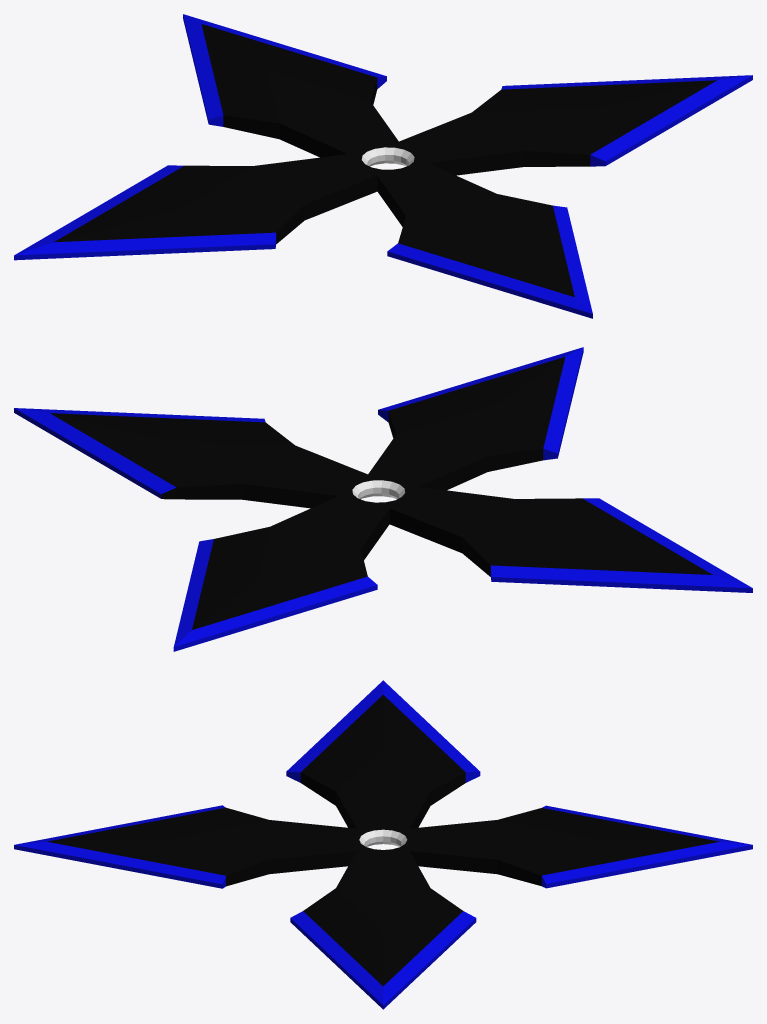
File: ThrowingStar.fbx
3 renders of one model, top to bottom at view 1: azimuth 30°, elevation 25°; view 2: azimuth 150°, elevation 25°; view 3: azimuth 270°, elevation 25°, orthographic. The views are drawn at different scales.
Parts seen in each view (by area): view 1: Circle; view 2: Circle; view 3: Circle.
Boxes of the visible parts, left/top/right/bottom form: Circle: left=14, top=14, right=752, bottom=318; Circle: left=14, top=347, right=752, bottom=651; Circle: left=14, top=680, right=752, bottom=1009.
Bounding box in the file's own units: 449 × 9.28 × 432.
